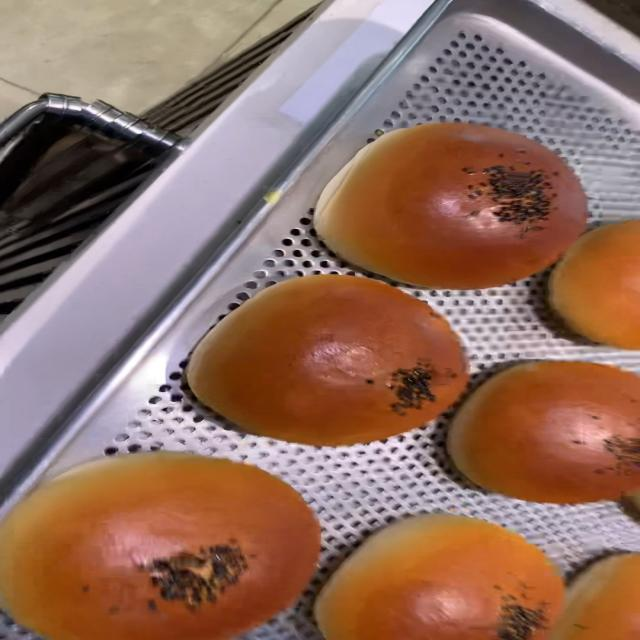bread: (3, 449, 325, 640), (180, 272, 503, 447), (309, 121, 589, 286), (309, 513, 568, 640)
